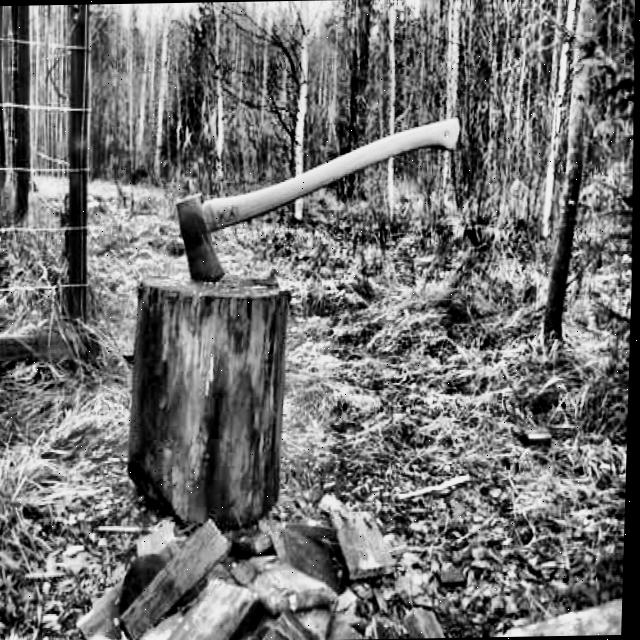kapak: (164, 105, 467, 289)
